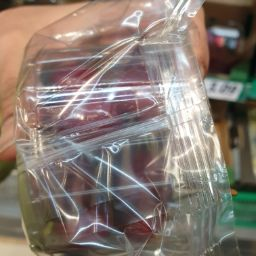Cherry: (39, 47, 216, 243)
